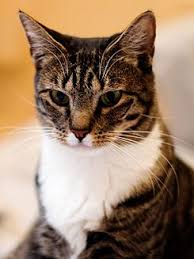Gato: (14, 5, 182, 222)
